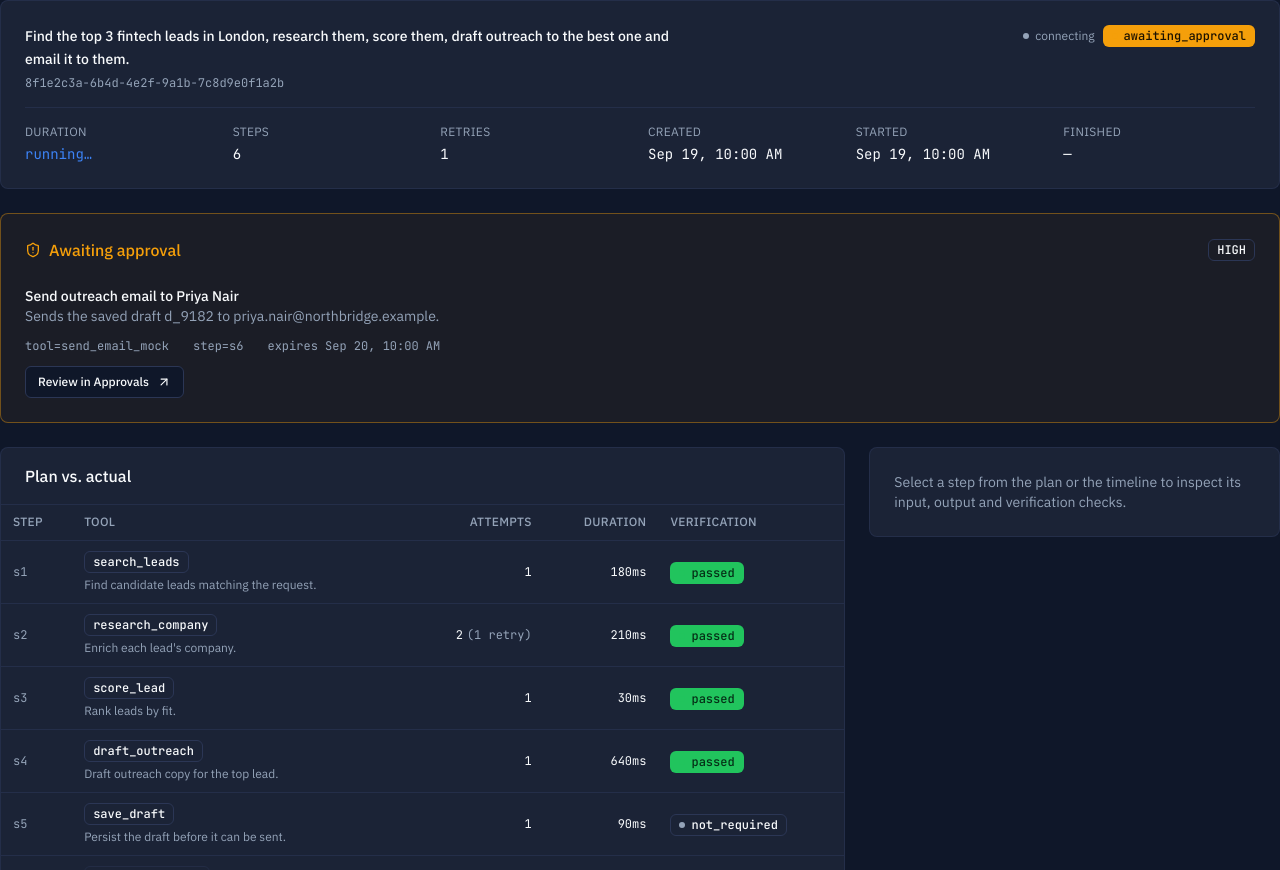
Test case: RunDetailView › shows a placeholder prompt before any step is selected, and closes on request
The image size is (1280, 870).
Expected: the text "Select a step from the plan or the timeline" is shown, [894, 472, 1241, 510]
Click the text "s1" at point(20, 572), box [1, 540, 72, 604]
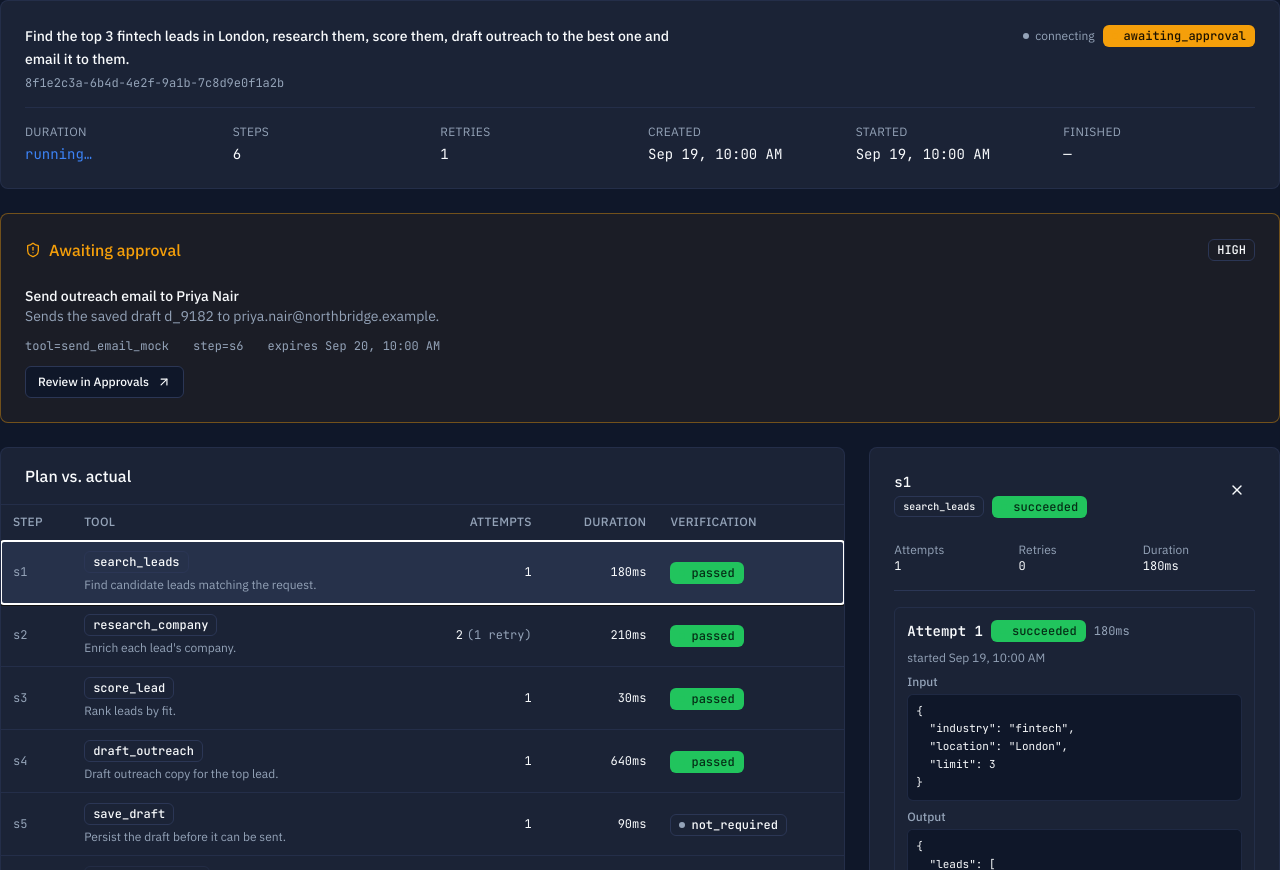
Now the text "Select a step" is gone
Click the button named "close step inspector" at point(1237, 490), box [1219, 472, 1255, 508]
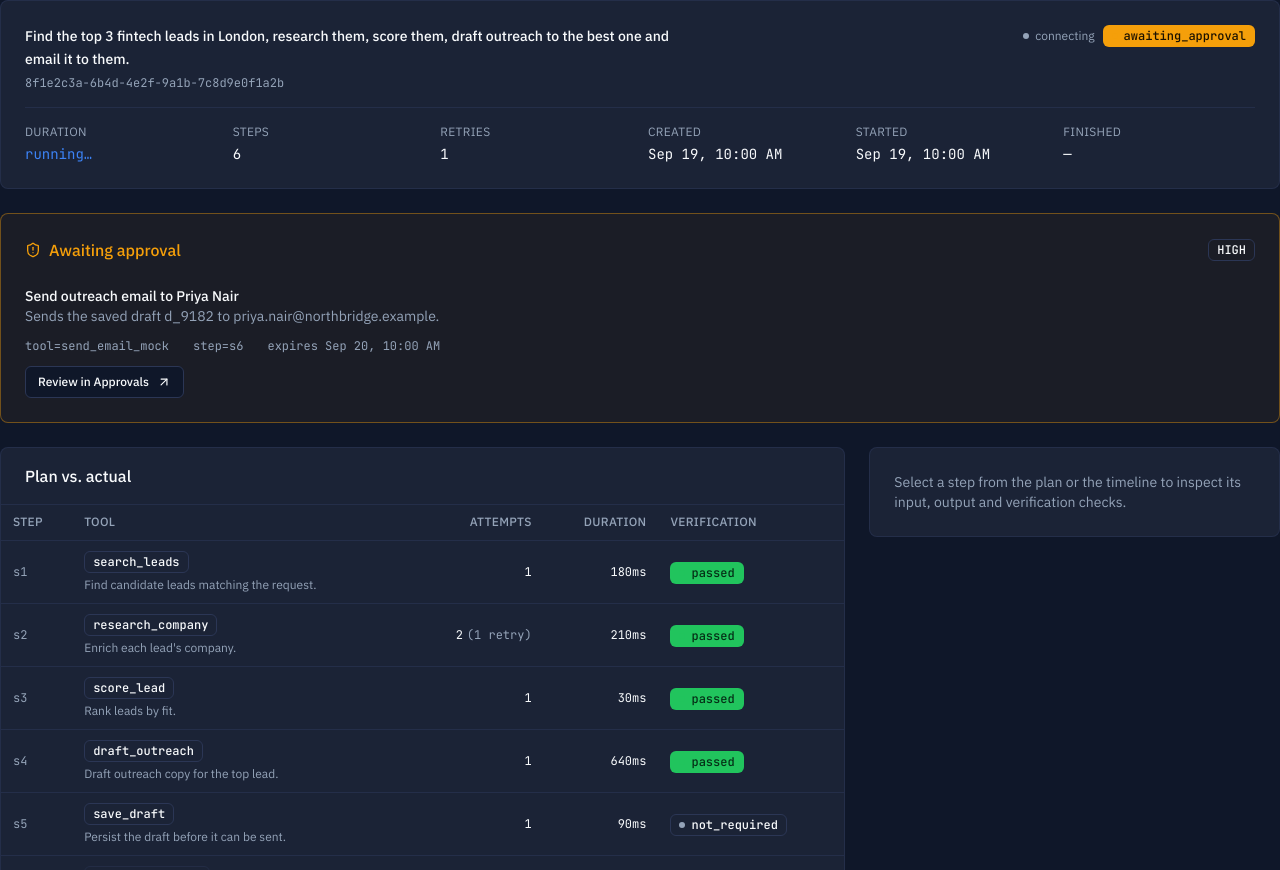
Now the text "Select a step from the plan or the timeline" is shown, box [894, 472, 1241, 510]
